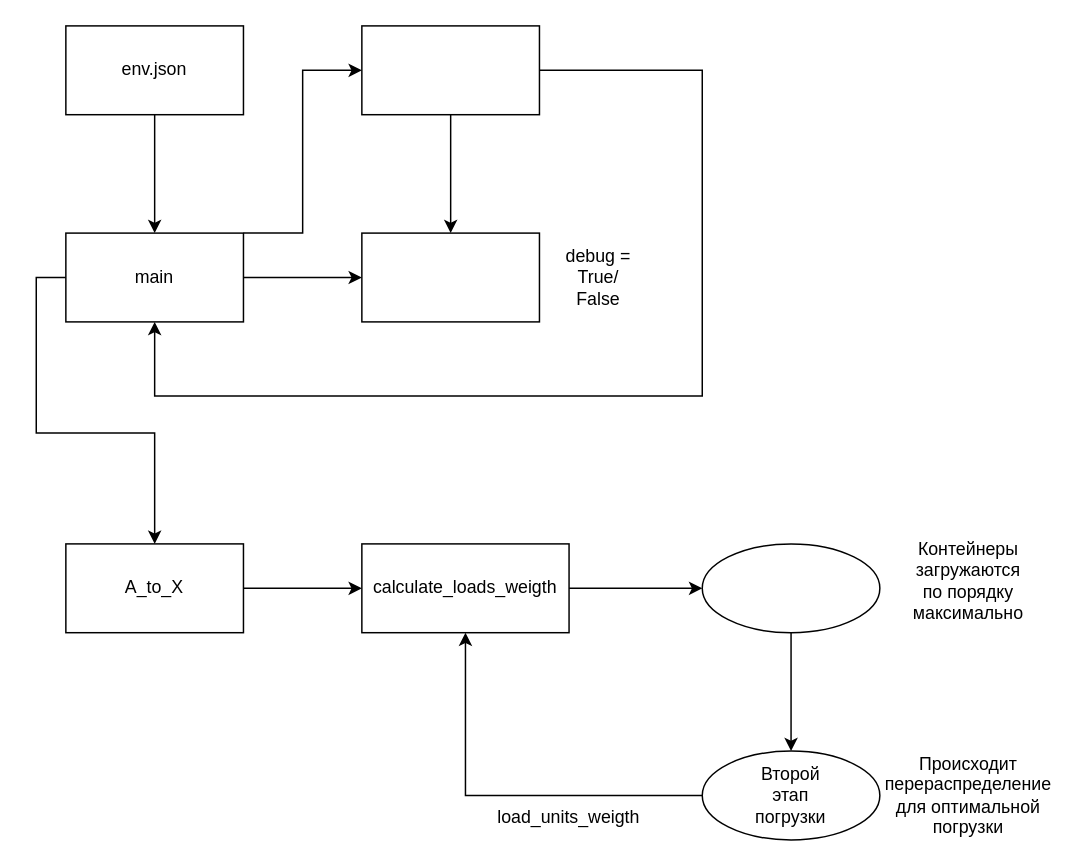
Some shapes in this 1077 by 866 pixel diagram are drawn without their labels. The shapes that lost their labels are listed below. From the top down, each one's centre as x and y in pixels, then its label:
At point 449,69: "validate_data".
At point 449,277: "init_logger".
At point 790,587: "Первый этап погрузки".
